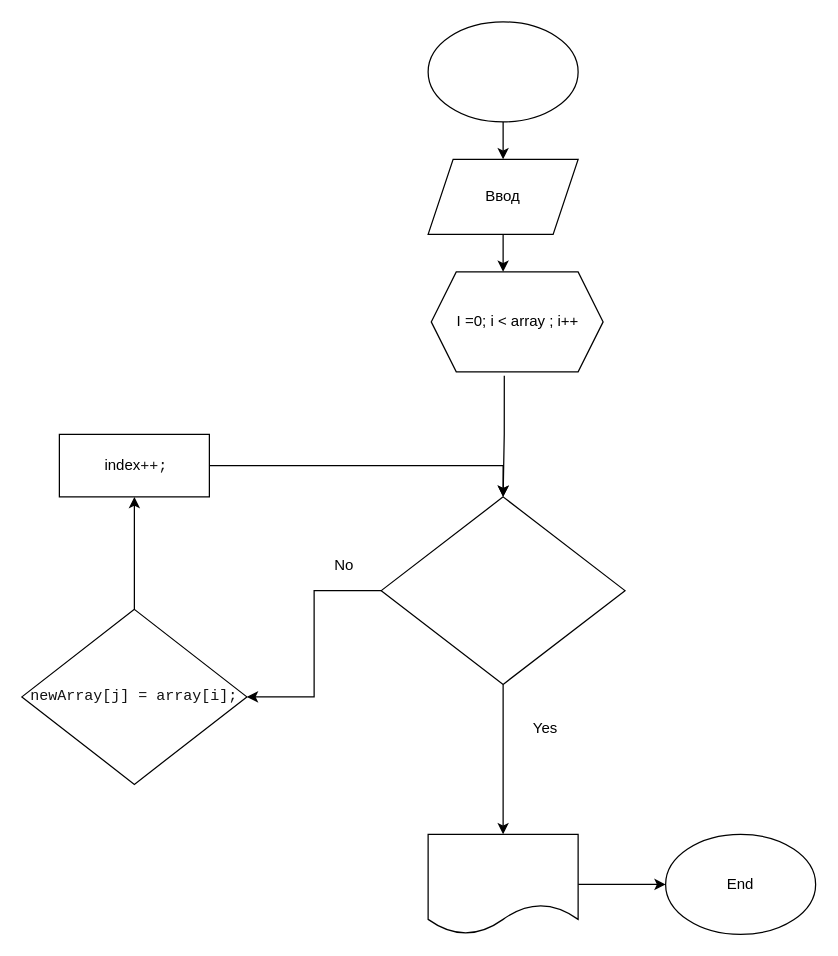
Image size: 838x956. Some labels were removed from this diagram. The shapes that lost their labels are listed below. From the top down, each one's centre as x and y in pixels, then its label:
pixel 502 71: Start
pixel 502 590: if (array[i].Length <= 3)
pixel 502 883: "Результат"
